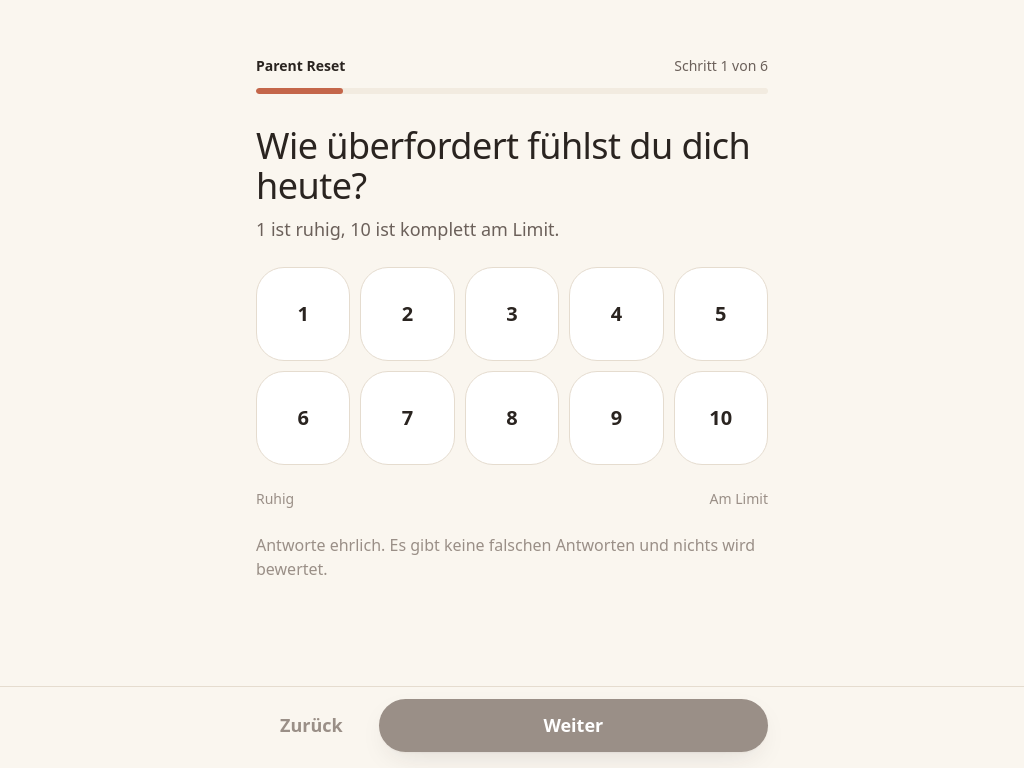
Test: guest reset flow › renders long German labels in full
This screenshot has width=1024, height=768.
Expected: the heading "Wie überfordert fühlst du dich heute?" is shown, [256,126,768,207]
Click the radio button labelled "3" at x=512, y=314, box [465,267,559,361]
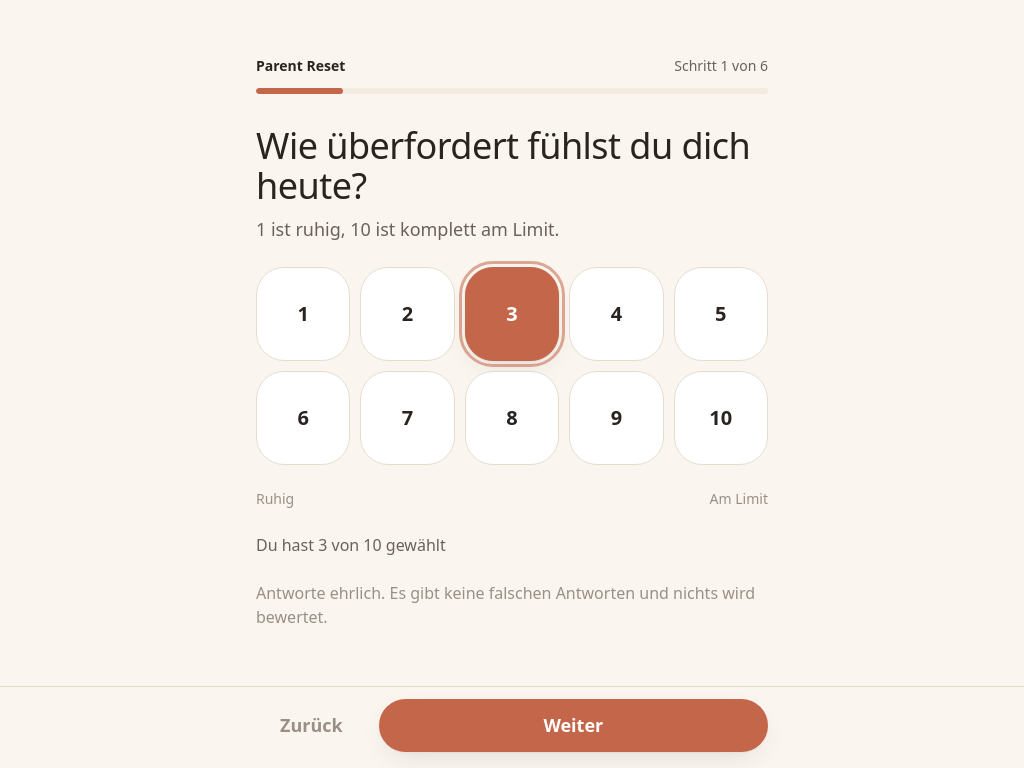
Click the button "Weiter" at x=573, y=726, box [379,699,768,752]
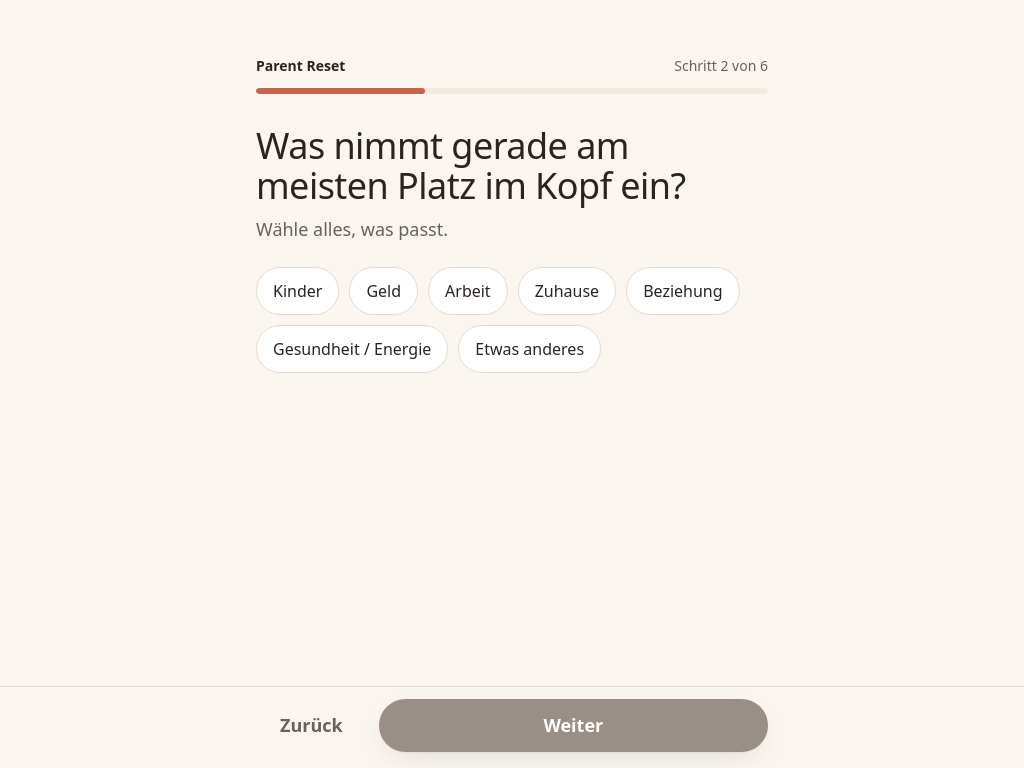
Result: the button "Kinder" is shown at [256,267,339,315]
Result: the button "Geld" is shown at [349,267,418,315]
Result: the button "Arbeit" is shown at [428,267,508,315]
